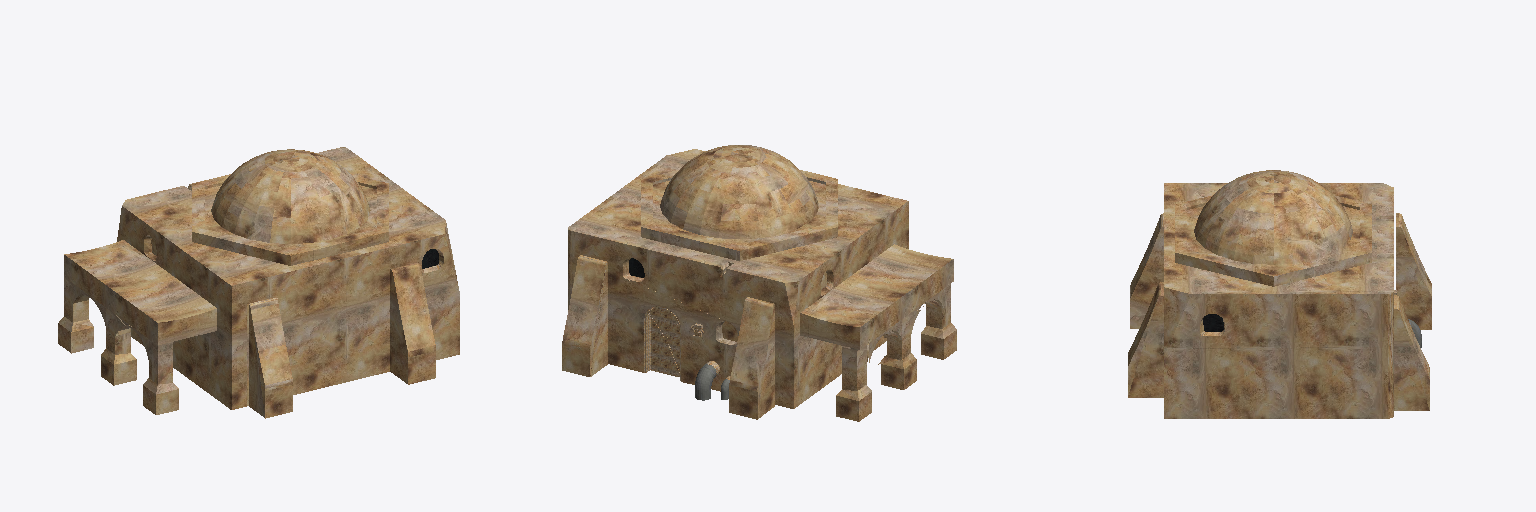
3 renders of one model, left to right at view 1: azimuth 30°, elevation 25°; view 2: azimuth 150°, elevation 25°; view 3: azimuth 270°, elevation 25°, orthographic.
Visible parts, largest first — view 1: CasaTatooine; view 2: CasaTatooine; view 3: CasaTatooine.
Part boxes in pixels (x1,y1,x2,y2): CasaTatooine: (58,147,459,418); CasaTatooine: (562,145,956,421); CasaTatooine: (1128,170,1431,418).
Bounding box in the file's own units: 45.79 × 27.62 × 41.51.
Materials: 3 (3 with a texture image).